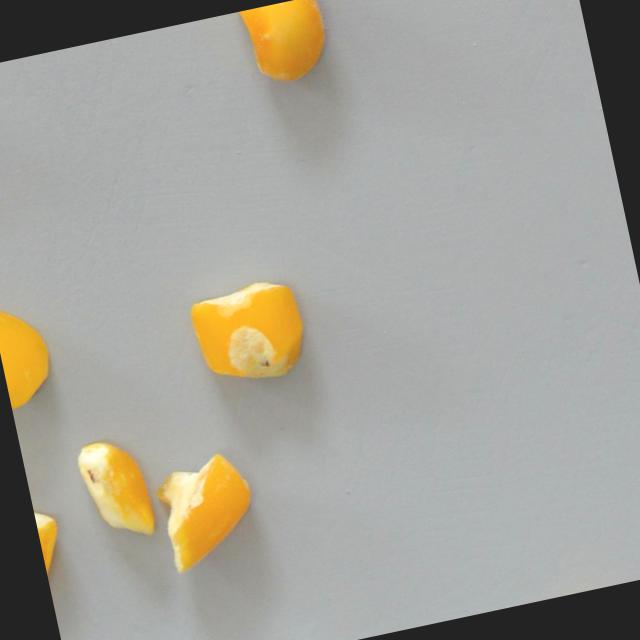dañado: (223, 0, 338, 98), (70, 428, 162, 549)
pelicula: (148, 447, 267, 577), (0, 295, 60, 410)
punto_negro: (182, 259, 315, 394), (32, 498, 78, 615)
